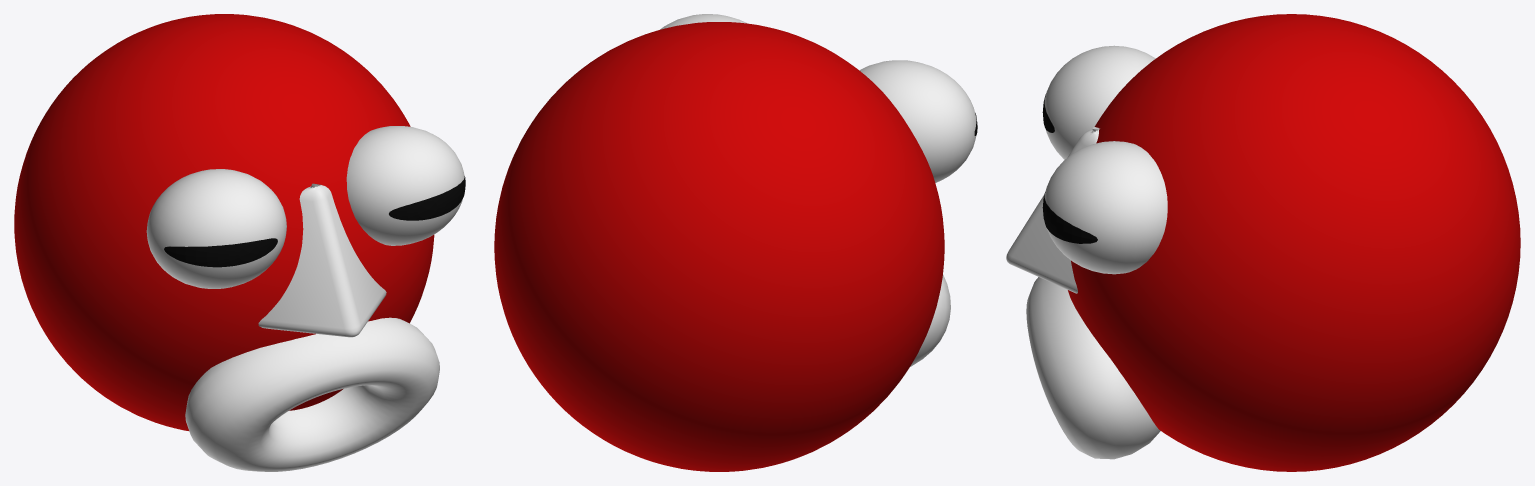
The picture shows the model from 3 angles, left to right: view 1: azimuth 30°, elevation 25°; view 2: azimuth 150°, elevation 25°; view 3: azimuth 270°, elevation 25°; orthographic projection. The views are drawn at different scales.
Parts seen in each view (by area): view 1: ball, mouth, eye-1, eye1, nose, Sphere, Sphere.001; view 2: ball, eye-1, mouth, eye1; view 3: ball, mouth, eye1, eye-1, nose, Sphere.001.
Boxes of the visible parts, x1,y1,x2,y2 form: ball: [14, 14, 434, 430]; mouth: [185, 317, 439, 471]; eye-1: [146, 169, 286, 288]; eye1: [346, 126, 464, 245]; nose: [258, 183, 386, 337]; Sphere: [164, 238, 277, 267]; Sphere.001: [389, 176, 465, 220]; ball: [494, 22, 944, 471]; eye-1: [859, 60, 976, 182]; mouth: [910, 274, 950, 366]; eye1: [660, 14, 747, 29]; ball: [1068, 14, 1520, 471]; mouth: [1026, 277, 1160, 459]; eye1: [1044, 141, 1167, 274]; eye-1: [1044, 45, 1155, 159]; nose: [1006, 126, 1099, 293]; Sphere.001: [1042, 192, 1097, 243].
Size of the model in its own units: 2 by 2 by 2.25.
